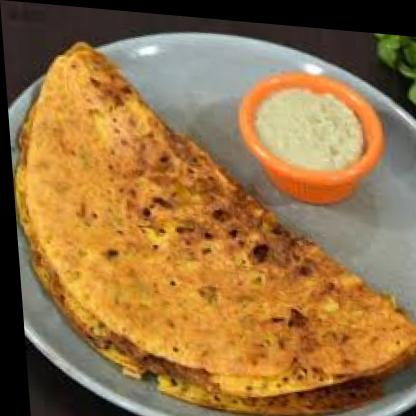dosa: (2, 36, 416, 416)
